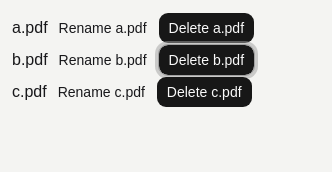
Test case: Undoable focus after removal › moves focus to the same button in the next row
Click the button "Delete b.pdf".
click(206, 60)  # box [158, 44, 255, 76]
Wait 5000 ms
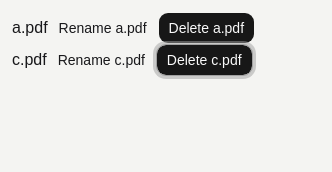
Expected: the text "b.pdf" is gone
